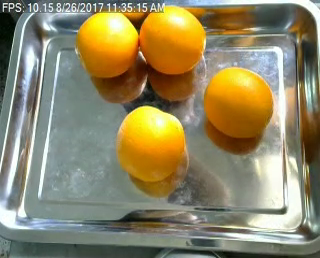Orange: (114, 104, 186, 182), (203, 66, 274, 137), (75, 10, 141, 79), (140, 5, 206, 74)
